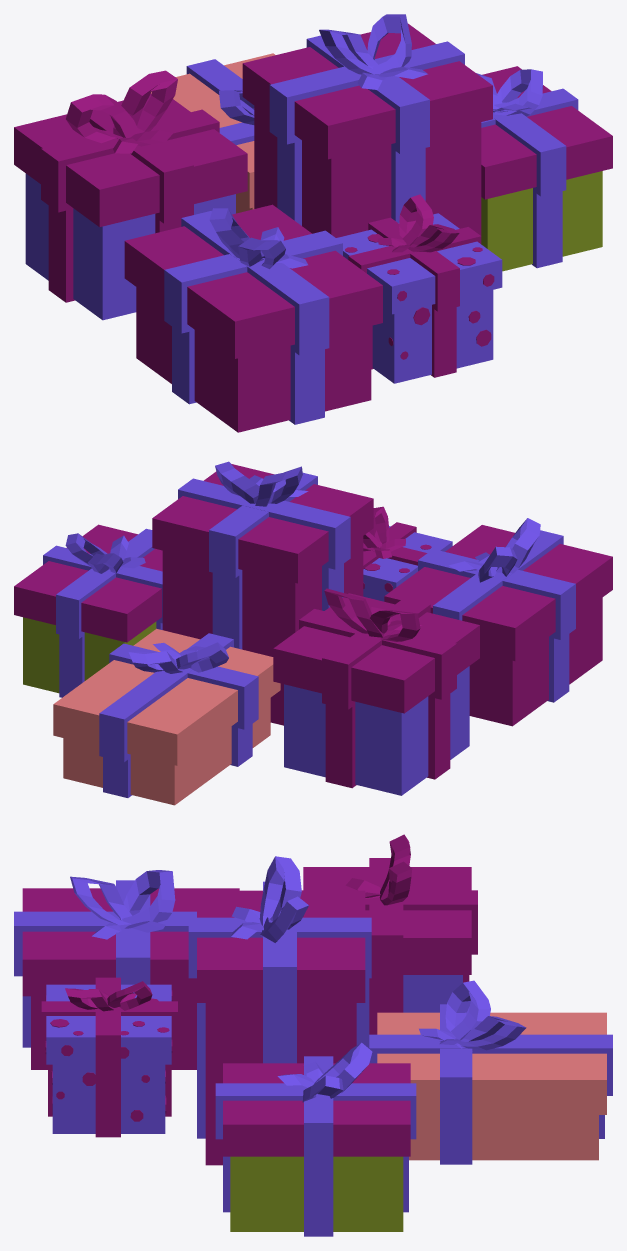
File: present collection.glb
The picture shows the model from 3 angles, top to bottom: view 1: azimuth 30°, elevation 25°; view 2: azimuth 150°, elevation 25°; view 3: azimuth 270°, elevation 25°; orthographic projection. The views are drawn at different scales.
Parts seen in each view (by area): view 1: group1997243227, group252728289, group2127621422, group1506610241, group1886123043, group749557293, group2013220817, group1999514590, group486113820, group581160294, group927125873, group1394401119 (+24 smaller); view 2: group1540346602, group1997243227, group749557293, group2127621422, group252728289, group1886123043, group2013220817, group1506610241, group1262929608, group724970721, group486113820, group1999514590 (+23 smaller); view 3: group1540346602, group2127621422, group2013220817, group1999514590, group1997243227, group252728289, group1886123043, group1262929608, group581160294, group927125873, group486113820, group1941880835 (+25 smaller).
Boxes of the visible parts, x1,y1,x2,y2 form: group1997243227: (124,204,382,358); group252728289: (254,106,481,237); group2127621422: (242,23,492,159); group1506610241: (136,287,371,432); group1886123043: (14,93,247,227); group749557293: (25,173,235,320); group2013220817: (481,66,612,199); group1999514590: (481,171,602,271); group486113820: (41,109,219,302); group581160294: (372,290,493,383); group927125873: (336,213,502,314); group1394401119: (181,211,329,355); group1540346602: (53,628,280,765); group1997243227: (384,525,612,661); group749557293: (284,666,469,795); group2127621422: (152,464,373,583); group252728289: (162,536,363,725); group1886123043: (273,593,479,713); group2013220817: (14,524,162,642); group1506610241: (469,597,602,726); group1262929608: (63,698,270,805); group724970721: (322,598,430,788); group486113820: (299,609,456,779); group1999514590: (23,617,156,693); group1540346602: (377,1012,606,1114); group2127621422: (197,890,365,1002); group2013220817: (223,1063,410,1156); group1999514590: (230,1156,403,1231); group1997243227: (22,888,239,996); group252728289: (205,1003,356,1165); group1886123043: (303,867,471,974); group1262929608: (409,1115,598,1160); group581160294: (52,1064,165,1133); group927125873: (46,984,171,1064); group486113820: (369,858,403,1034); group1941880835: (70,870,175,939).
Bounding box in the file's own units: 2.62 × 1.33 × 2.81.
